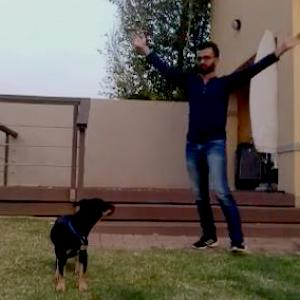takeoff: (126, 34, 299, 263)
